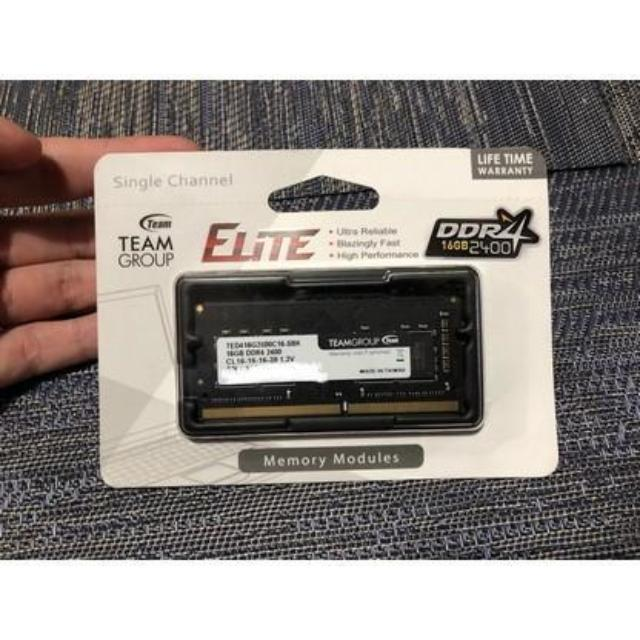RAM: (188, 293, 464, 416)
